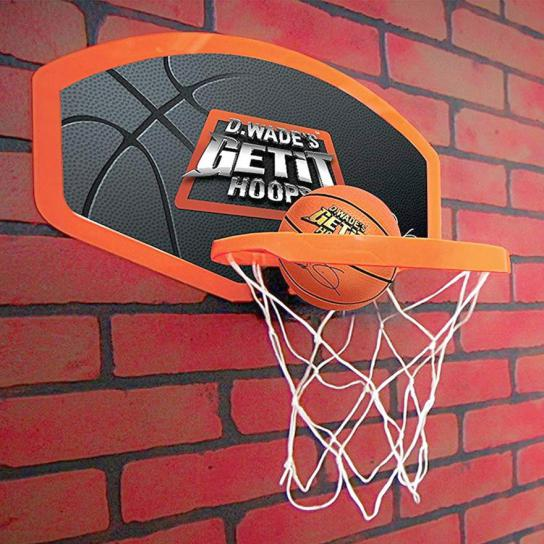basketball-hoop: (208, 229, 512, 520)
